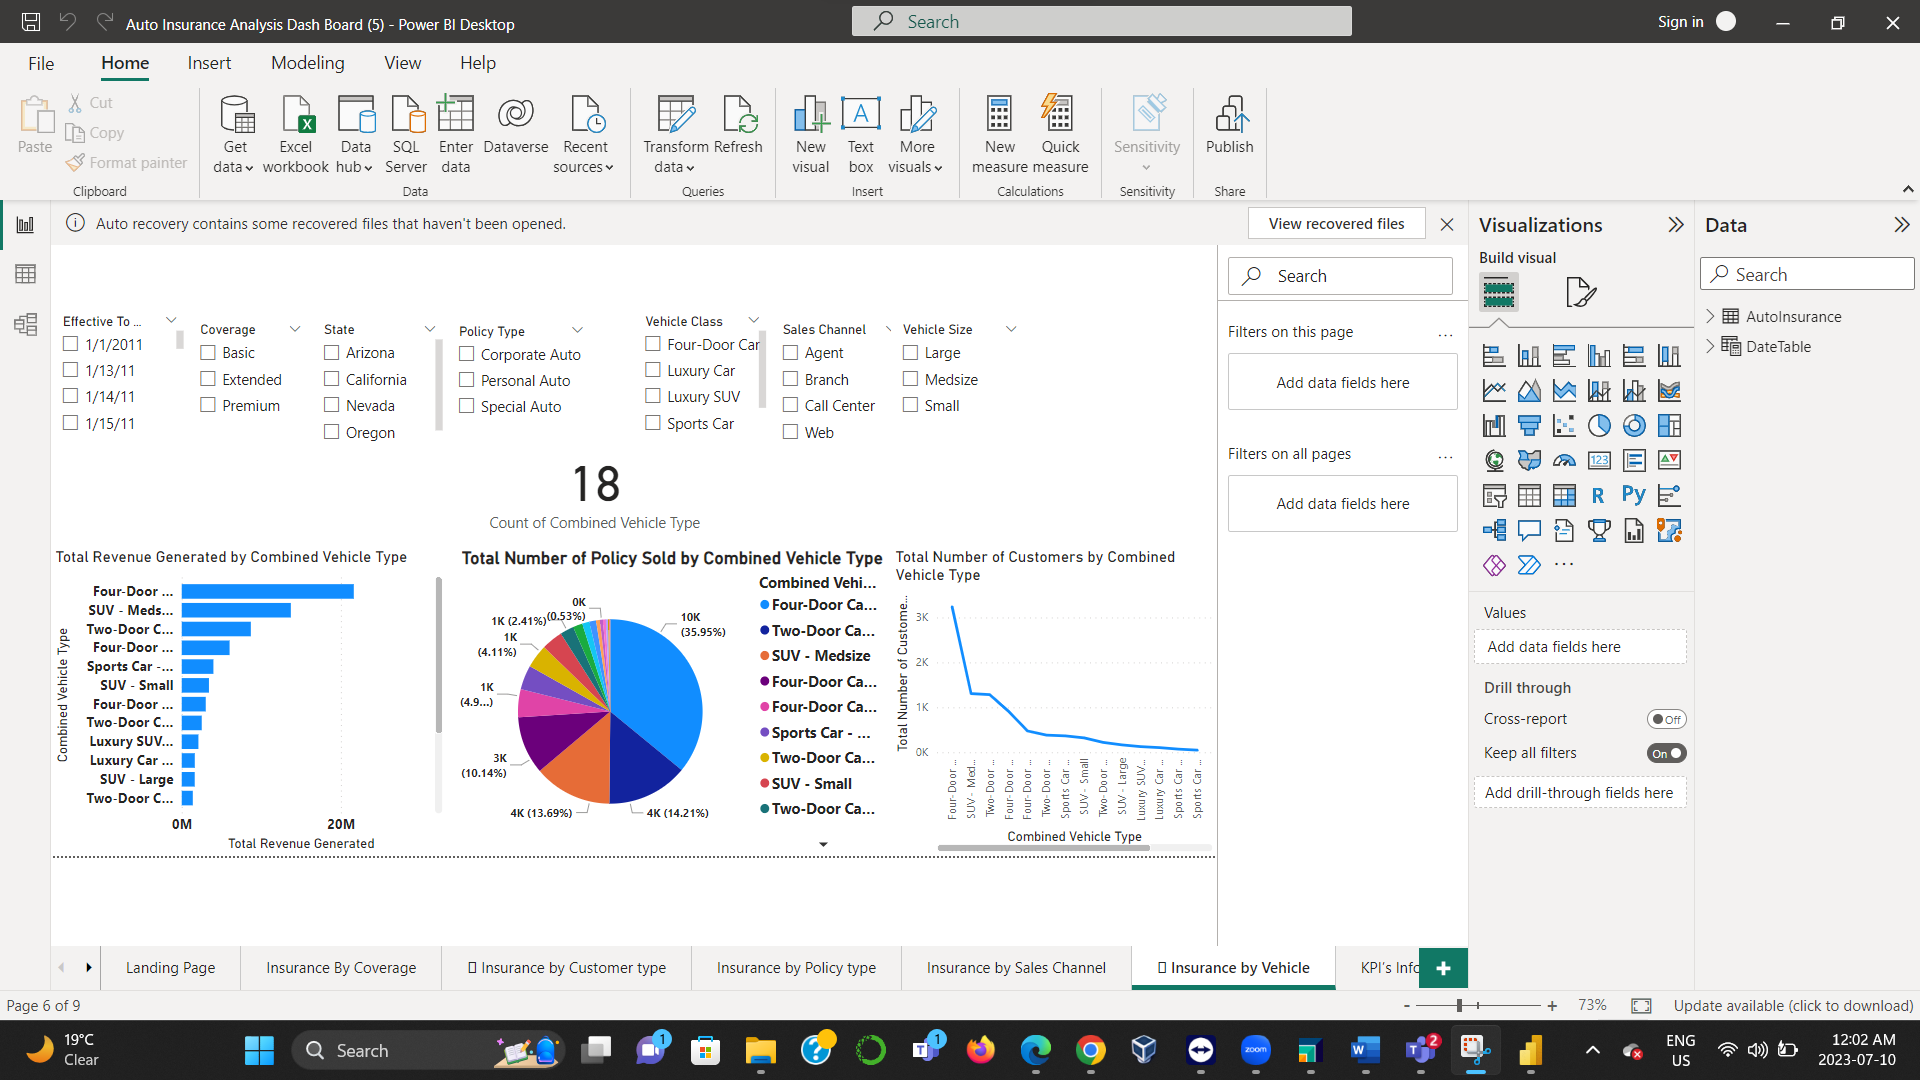

This screenshot's page, from the dashboard's own definition file:
{"tool":"powerbi","page":{"name":"\tInsurance by Vehicle","canvas":[1280,720],"ordinal":5},"visuals":[{"type":"slicer","fields":{"Values":["AutoInsurance.Effective To Date"]},"box":[0,119.4,150.9,149.6],"z":0},{"type":"slicer","fields":{"Values":["AutoInsurance.Coverage"]},"box":[150.9,129,135.8,149.6],"z":1000},{"type":"slicer","fields":{"Values":["AutoInsurance.State"]},"box":[286.8,129,148.2,149.6],"z":2000},{"type":"slicer","fields":{"Values":["AutoInsurance.Policy Type"]},"box":[435,130.4,161.9,149.6],"z":3000},{"type":"slicer","fields":{"Values":["AutoInsurance.Vehicle Class"]},"box":[639.5,119.4,150.9,150.9],"z":4000},{"type":"slicer","fields":{"Values":["AutoInsurance.Sales Channel"]},"box":[790.4,129,150.9,150.9],"z":5000},{"type":"slicer","fields":{"Values":["AutoInsurance.Vehicle Size"]},"box":[922.1,129,150.9,149.6],"z":6000},{"type":"card","fields":{"Values":["Count(AutoInsurance.Combined Vehicle Type)"]},"box":[472,259.3,249.7,112.5],"z":7000},{"type":"barChart","fields":{"Y":["AutoInsurance.Total Revenue Generated"],"Category":["AutoInsurance.Combined Vehicle Type"]},"box":[0,381.5,435,338.9],"z":8000},{"type":"pieChart","fields":{"Y":["AutoInsurance.Total Number of Policy Sold"],"Category":["AutoInsurance.Combined Vehicle Type"]},"box":[446,381.5,476.2,338.9],"z":9000},{"type":"lineChart","fields":{"Y":["AutoInsurance.Total Number of Customers"],"Category":["AutoInsurance.Combined Vehicle Type"]},"box":[922.1,381.5,358.1,338.9],"z":10000},{"type":"textbox","box":[164.7,0,638.1,75.5],"z":12000}]}

Visuals, with their boxes on the page's 1280x720 design canvas (x1, y1, x2, y2). These are canvas units, not pixel positions in the 1920x1080 screenshot, which may show the page scaled, cropped or inside an application window:
slicer - AutoInsurance.Effective To Date: {"left": 0, "top": 119, "right": 151, "bottom": 269}
slicer - AutoInsurance.Coverage: {"left": 151, "top": 129, "right": 287, "bottom": 279}
slicer - AutoInsurance.State: {"left": 287, "top": 129, "right": 435, "bottom": 279}
slicer - AutoInsurance.Policy Type: {"left": 435, "top": 130, "right": 597, "bottom": 280}
slicer - AutoInsurance.Vehicle Class: {"left": 640, "top": 119, "right": 790, "bottom": 270}
slicer - AutoInsurance.Sales Channel: {"left": 790, "top": 129, "right": 941, "bottom": 280}
slicer - AutoInsurance.Vehicle Size: {"left": 922, "top": 129, "right": 1073, "bottom": 279}
card - Count(AutoInsurance.Combined Vehicle Type): {"left": 472, "top": 259, "right": 722, "bottom": 372}
barChart - AutoInsurance.Total Revenue Generated x AutoInsurance.Combined Vehicle Type: {"left": 0, "top": 382, "right": 435, "bottom": 720}
pieChart - AutoInsurance.Total Number of Policy Sold x AutoInsurance.Combined Vehicle Type: {"left": 446, "top": 382, "right": 922, "bottom": 720}
lineChart - AutoInsurance.Total Number of Customers x AutoInsurance.Combined Vehicle Type: {"left": 922, "top": 382, "right": 1280, "bottom": 720}
textbox: {"left": 165, "top": 0, "right": 803, "bottom": 76}
